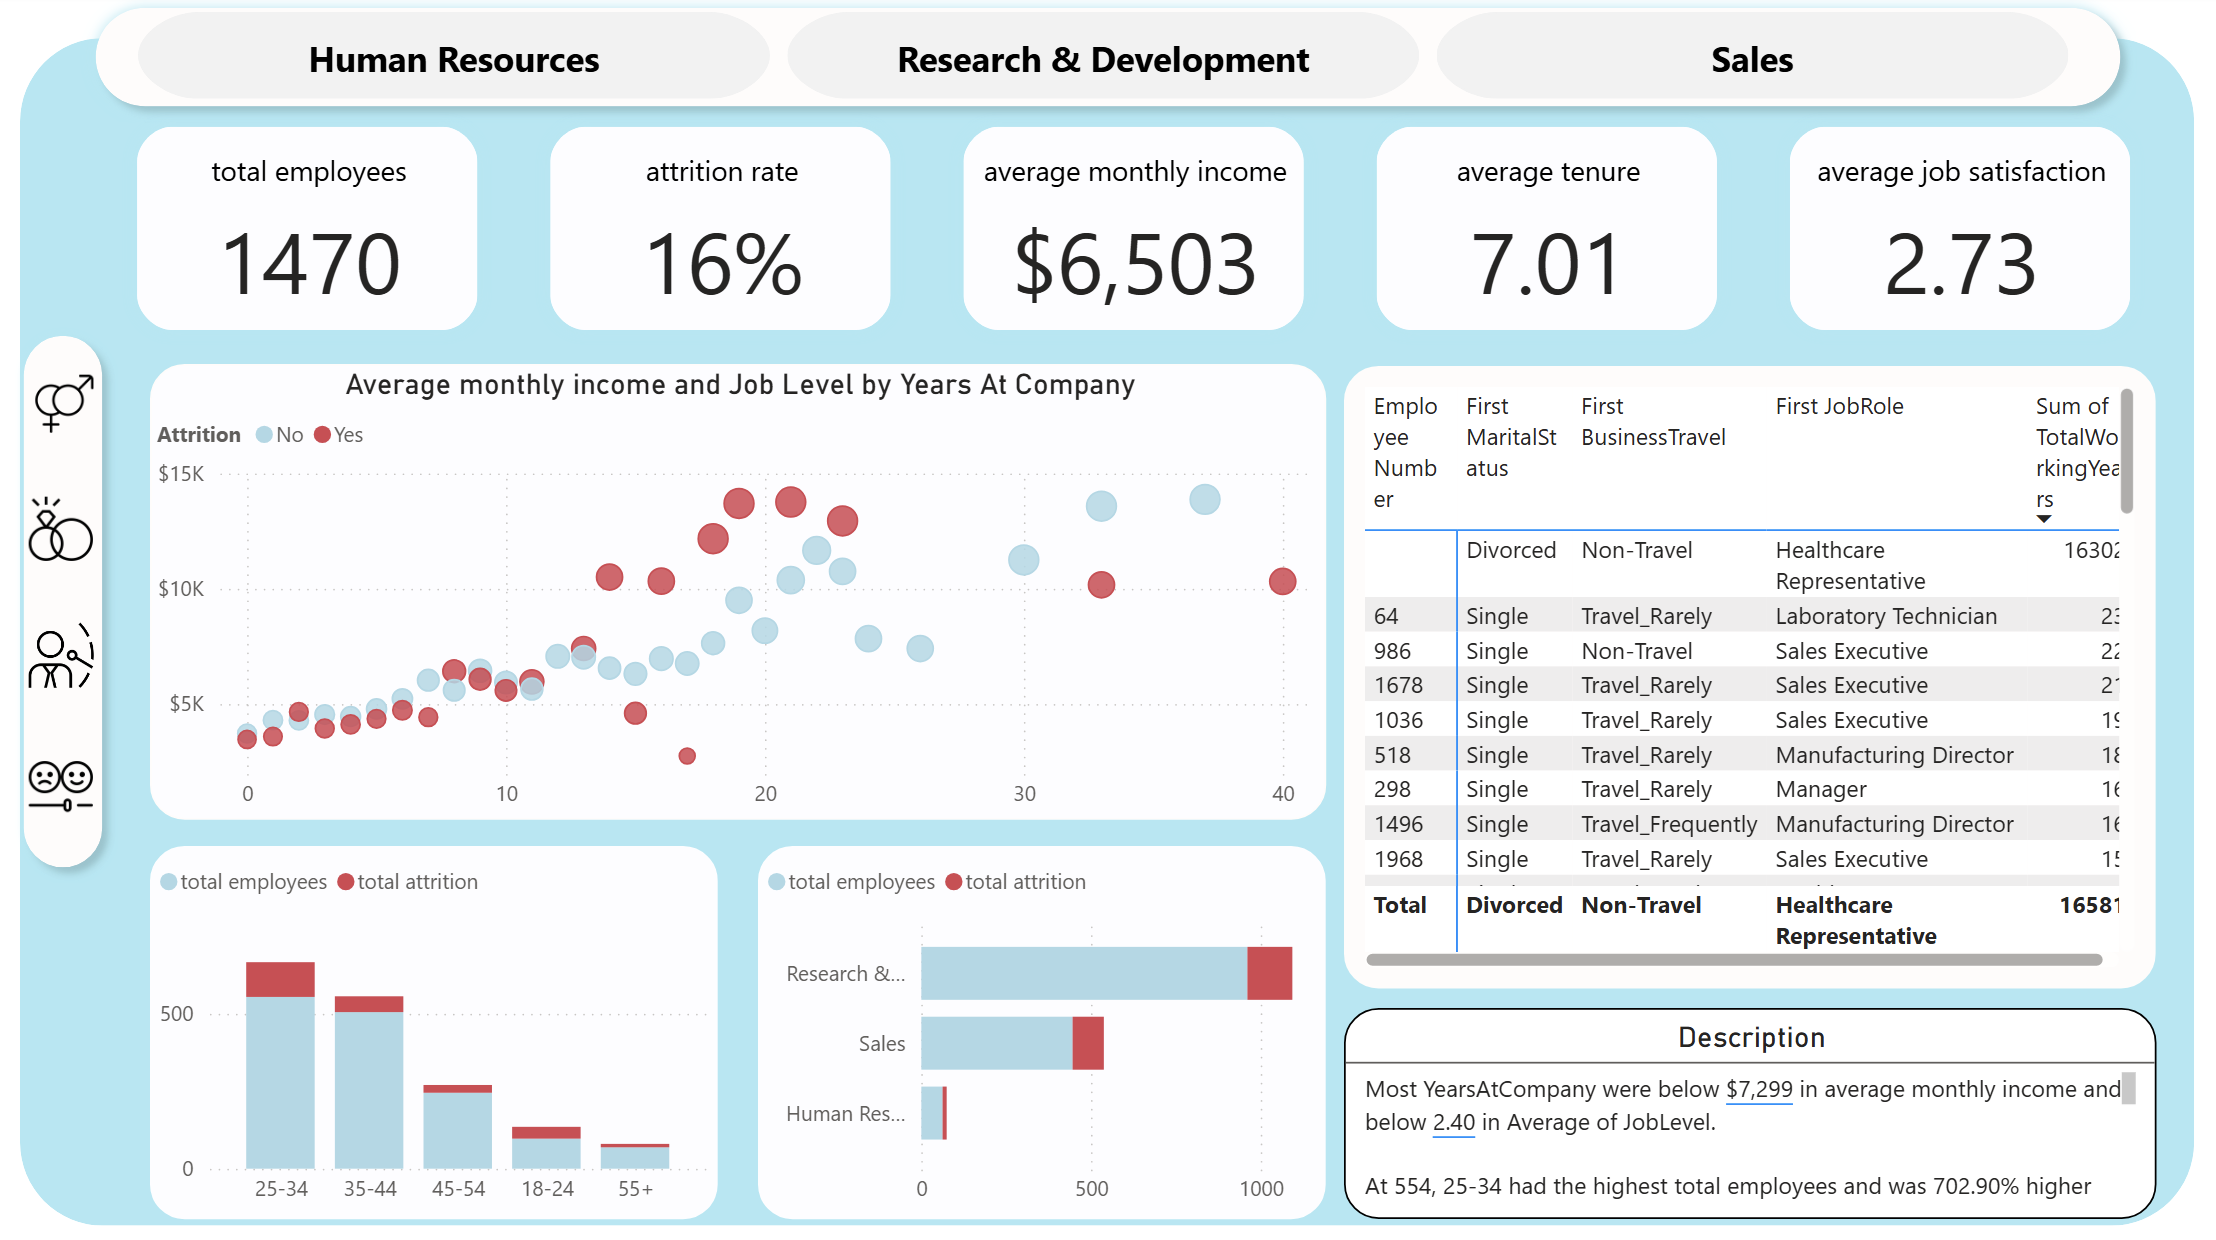

Layout of this report page (visuals, bound fields, positions):
{"tool":"powerbi","page":{"name":"Page 1","canvas":[1280,720],"ordinal":0},"visuals":[{"type":"shape","box":[13.2,26.4,1252.3,684.2],"z":0},{"type":"shape","box":[5.3,188.5,63.3,324.3],"z":1000},{"type":"shape","box":[47.2,0,1184.3,74.9],"z":2000},{"type":"cardVisual","fields":{"Data":["Table.total employees","Table.attrition rate","Table.average monthly income","Table.average tenure","Table.average job satisfaction"]},"box":[69.1,65.7,1173.9,140.5],"z":3000},{"type":"barChart","title":"Most Reasons for Attrition","fields":{"Series":["ibm_hr.Attrition"],"Category":["Reasons.Reason"],"Y":["ibm_hr.Reason Status Count"]},"box":[405.5,491.9,345.6,214.3],"z":4000},{"type":"columnChart","fields":{"Y":["Table.total employees","Table.total attrition"],"Category":["ibm_hr.age group"]},"box":[70.3,491.9,326,214.3],"z":5000},{"type":"scatterChart","title":"Average monthly income and Job Level by Years At Company","fields":{"X":["ibm_hr.YearsAtCompany"],"Y":["Table.average monthly income"],"Size":["Avg(ibm_hr.JobLevel)"],"Series":["ibm_hr.Attrition"]},"box":[73.7,214.3,677.4,262.7],"z":6000},{"type":"pivotTable","fields":{"Rows":["ibm_hr.JobRole"],"Values":["Table.average monthly income","Table.average job satisfaction","Table.average tenure","Table.attrition rate"]},"box":[775.3,215.4,467.7,267.3],"z":7000},{"type":"textbox","title":"Description","box":[775.3,491.9,467.7,214.3],"z":8000},{"type":"advancedSlicerVisual","fields":{"Values":["ibm_hr.Department"]},"box":[80.6,11.5,1112.8,50.7],"z":9000},{"type":"image","box":[14.6,215.5,47,43.7],"z":10000},{"type":"image","box":[13,285.2,47,47],"z":11000},{"type":"image","box":[13.2,358.6,47.5,47.5],"z":12000},{"type":"image","box":[13,431,47,51.8],"z":13000}]}

Visuals, with their boxes in screenshot pixels (x1, y1, x2, y2), scaled from the page's 1280x720 canvas onto the 2216x1240 screenshot:
shape: crop(23, 45, 2191, 1224)
shape: crop(9, 325, 119, 883)
shape: crop(82, 0, 2132, 129)
cardVisual - Table.total employees x Table.attrition rate: crop(120, 113, 2152, 355)
"Most Reasons for Attrition" barChart: crop(702, 847, 1300, 1216)
columnChart - Table.total employees x Table.total attrition: crop(122, 847, 686, 1216)
"Average monthly income and Job Level by Years At Company" scatterChart: crop(128, 369, 1300, 822)
pivotTable - ibm_hr.JobRole x Table.average monthly income: crop(1342, 371, 2152, 831)
"Description" textbox: crop(1342, 847, 2152, 1216)
advancedSlicerVisual - ibm_hr.Department: crop(140, 20, 2066, 107)
image: crop(25, 371, 107, 446)
image: crop(23, 491, 104, 572)
image: crop(23, 618, 105, 699)
image: crop(23, 742, 104, 831)
